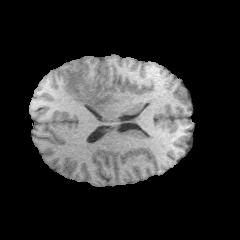glioma: (64, 67, 119, 112)
